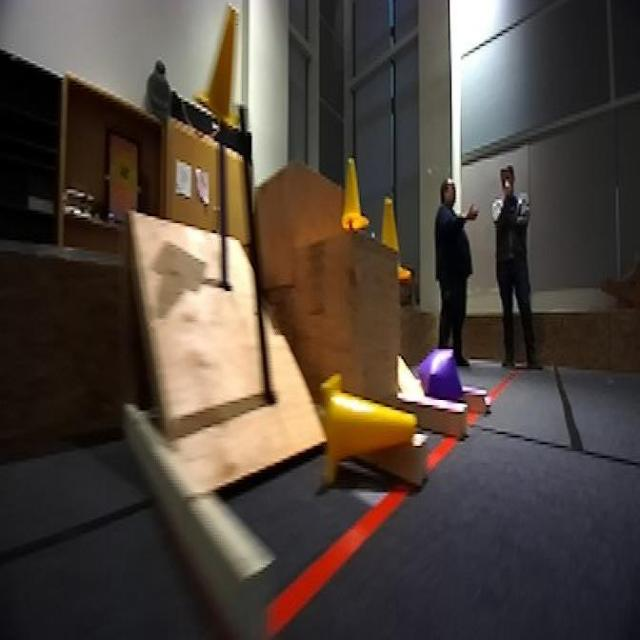frc_cone: (320, 371, 419, 483), (194, 5, 254, 131), (379, 197, 411, 286), (336, 156, 368, 230)
frc_cube: (420, 344, 467, 414)
